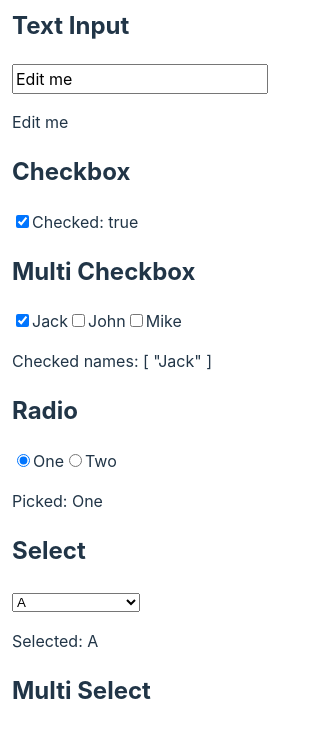
Test case: FormBindings › テキスト入力が v-model で双方向バインディングされる
Expected: the text "Edit me" is shown, [12,112,68,132]
Step 1. Replace the text in the field with id "textbox" with "Hello" → (140, 79), box [12,64,268,94]
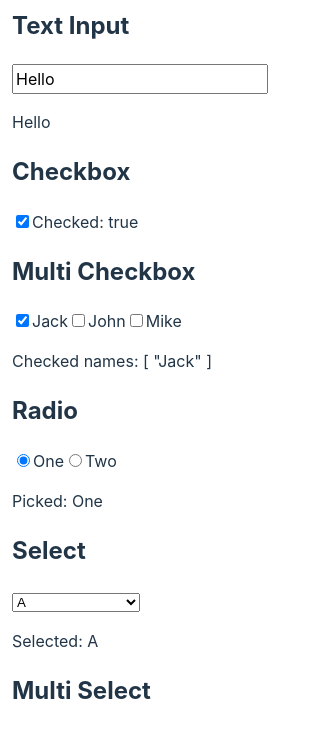
Now the text "Hello" is shown, box [12,112,51,132]
